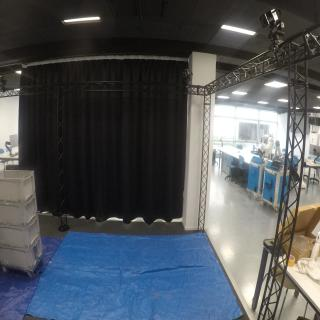Box4G: (1, 236, 47, 273), (1, 217, 44, 252), (1, 168, 39, 207), (1, 194, 41, 229)
